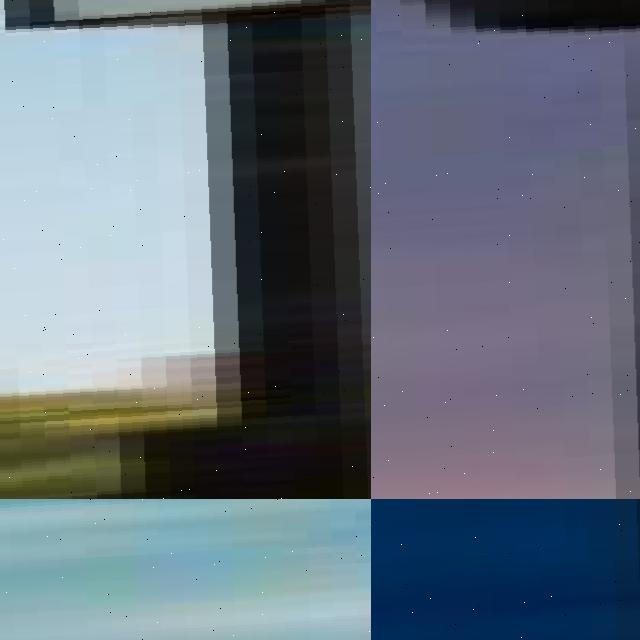street light: (0, 0, 371, 499), (371, 0, 640, 499), (0, 499, 371, 640), (371, 499, 640, 640)
